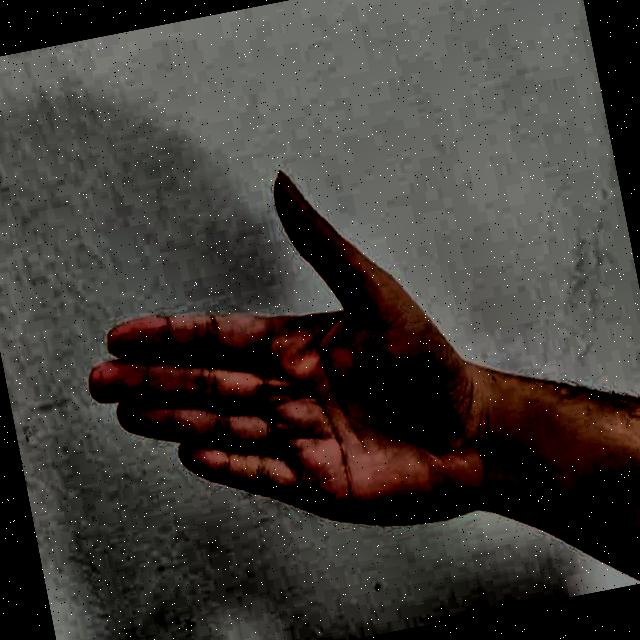Aa: (24, 127, 494, 610)
